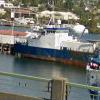Boat: (13, 27, 91, 68)
